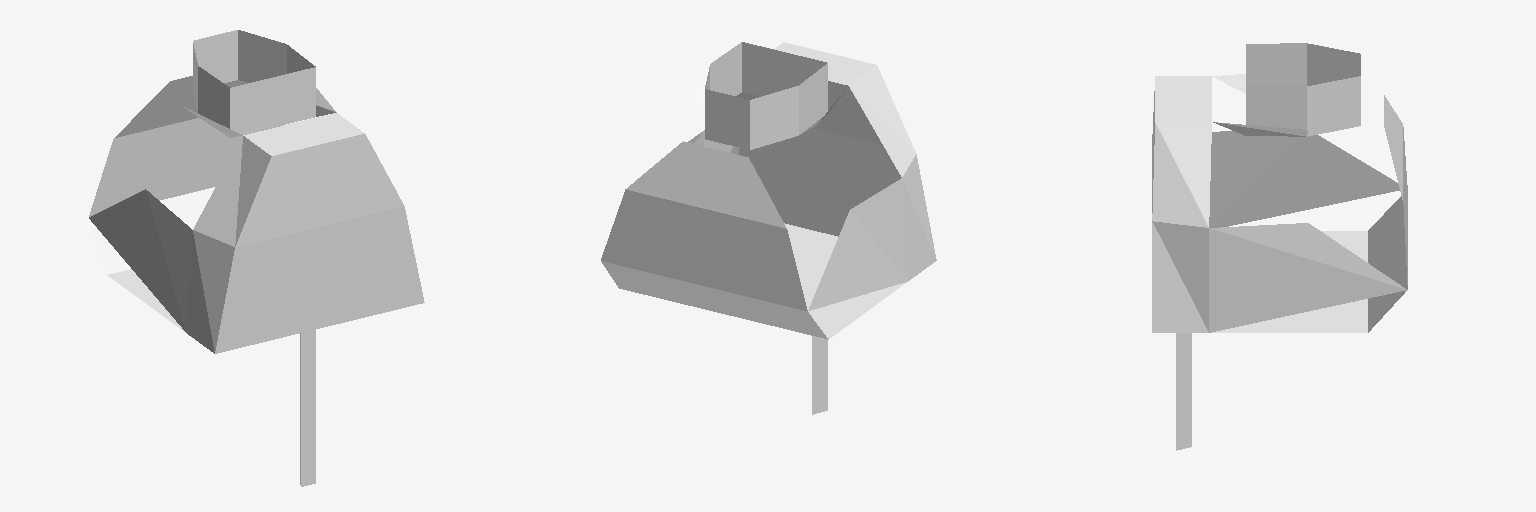
Rendered from ZURG3.obj.
The picture shows the model from 3 angles: view 1: azimuth 30°, elevation 25°; view 2: azimuth 150°, elevation 25°; view 3: azimuth 270°, elevation 25°; orthographic projection.
Parts seen in each view (by area): view 1: ZURG3_node13_face01, ZURG3_node00_face01, ZURG3_node00_face00, ZURG3_node15_face00; view 2: ZURG3_node13_face01, ZURG3_node00_face01, ZURG3_node00_face00, ZURG3_node15_face00; view 3: ZURG3_node13_face01, ZURG3_node00_face01, ZURG3_node15_face00, ZURG3_node00_face00.
Part boxes in pixels (bbox=[...]): ZURG3_node13_face01: bbox=[89, 76, 424, 353]; ZURG3_node00_face01: bbox=[193, 32, 315, 486]; ZURG3_node00_face00: bbox=[194, 30, 314, 131]; ZURG3_node15_face00: bbox=[193, 30, 315, 133]; ZURG3_node13_face01: bbox=[601, 42, 936, 339]; ZURG3_node00_face01: bbox=[705, 43, 827, 414]; ZURG3_node00_face00: bbox=[705, 42, 827, 138]; ZURG3_node15_face00: bbox=[705, 42, 827, 149]; ZURG3_node13_face01: bbox=[1152, 74, 1407, 332]; ZURG3_node00_face01: bbox=[1176, 44, 1360, 450]; ZURG3_node15_face00: bbox=[1246, 43, 1360, 135]; ZURG3_node00_face00: bbox=[1246, 44, 1296, 85].
Bounding box in the file's own units: 166 × 289 × 175.